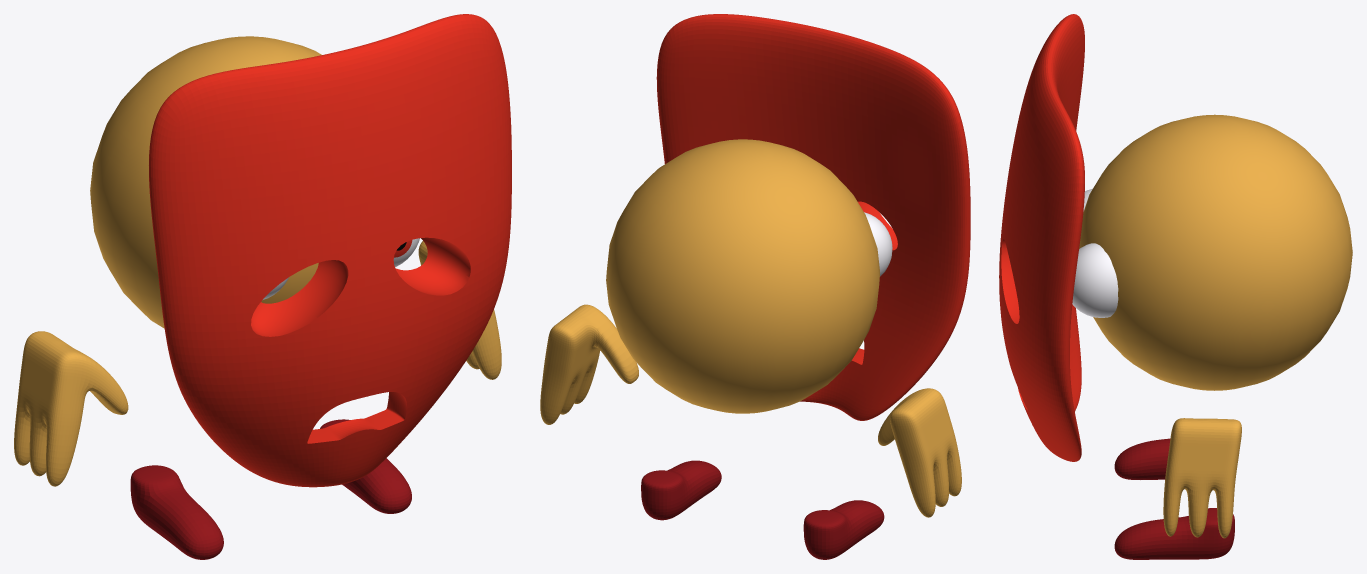
The model's file is indian.glb.
3 views of the same model, side by side, from view 1: azimuth 30°, elevation 25°; view 2: azimuth 150°, elevation 25°; view 3: azimuth 270°, elevation 25° (orthographic). The views are drawn at different scales.
Parts seen in each view (by area): view 1: Cube.002, Sphere, Cube, Cube.001; view 2: Cube.002, Sphere, Cube, Cube.001, Sphere.001; view 3: Sphere, Cube.002, Cube, Cube.001, Sphere.001.
Boxes of the visible parts, x1=… form: Cube.002: x1=149, y1=14, x2=511, y2=487; Sphere: x1=90, y1=36, x2=321, y2=328; Cube: x1=14, y1=241, x2=501, y2=486; Cube.001: x1=130, y1=419, x2=411, y2=559; Cube.002: x1=656, y1=14, x2=970, y2=420; Sphere: x1=606, y1=139, x2=879, y2=413; Cube: x1=540, y1=304, x2=961, y2=517; Cube.001: x1=641, y1=460, x2=884, y2=559; Sphere.001: x1=864, y1=212, x2=892, y2=276; Sphere: x1=1079, y1=114, x2=1352, y2=390; Cube.002: x1=999, y1=14, x2=1084, y2=461; Cube: x1=1163, y1=418, x2=1241, y2=538; Cube.001: x1=1114, y1=438, x2=1234, y2=559; Sphere.001: x1=1072, y1=188, x2=1118, y2=317.
Size of the model in its own units: 3.31 by 3.61 by 2.56.
